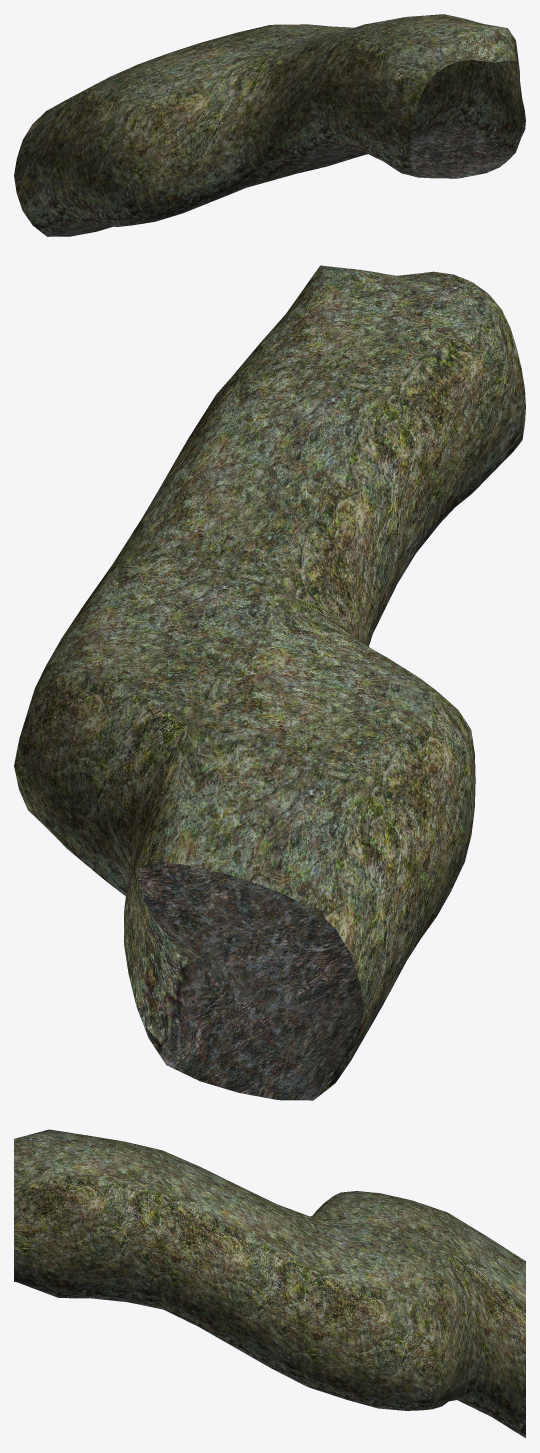
Rendered from thm_all_cave_s01_damprock_mirror_r1_mesh_r1.fbx.
3 views of the same model, one above another, from view 1: azimuth 30°, elevation 25°; view 2: azimuth 150°, elevation 25°; view 3: azimuth 270°, elevation 25° (orthographic). The views are drawn at different scales.
Parts seen in each view (by area): view 1: mesh_node; view 2: mesh_node; view 3: mesh_node.
Part boxes in pixels (box(x1,y1,x2,y2)): mesh_node: box(14, 14, 525, 236); mesh_node: box(14, 265, 525, 1100); mesh_node: box(14, 1129, 525, 1438).
Bounding box in the file's own units: 22.85 × 25.54 × 35.
